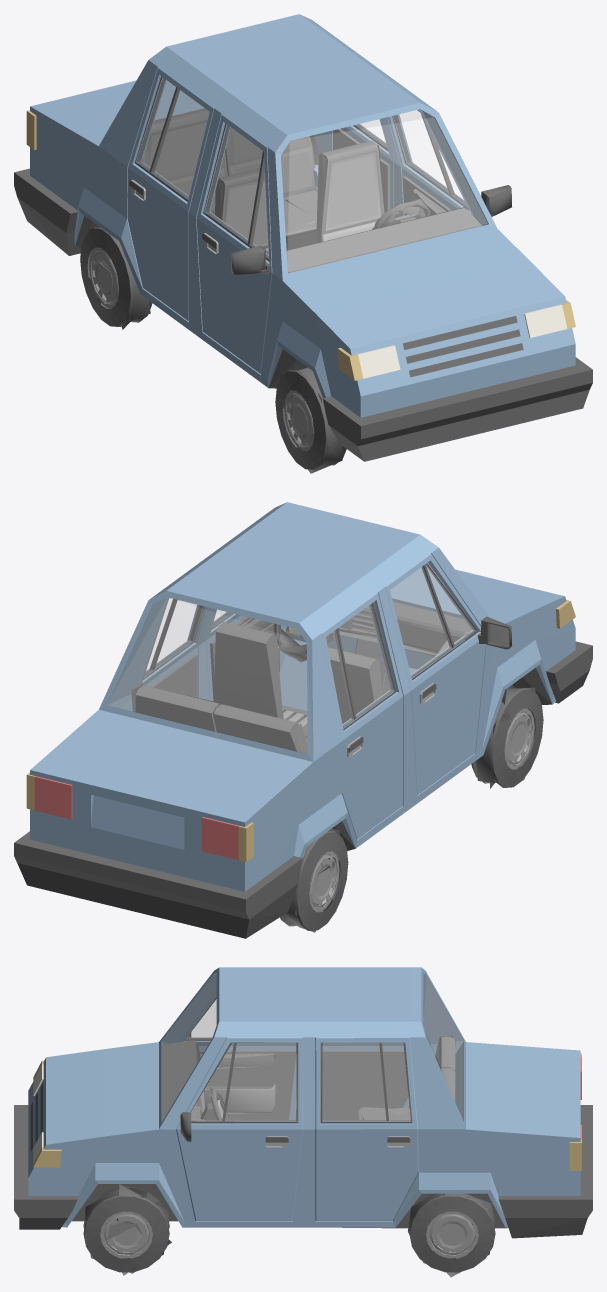
The model's file is sedan.glb.
3 views of the same model, one above another, from view 1: azimuth 30°, elevation 25°; view 2: azimuth 150°, elevation 25°; view 3: azimuth 270°, elevation 25° (orthographic). The views are drawn at different scales.
Visible parts, largest first — view 1: romp, ver, wiel_vr, wiel_ar; view 2: romp, ver, wiel_vr, wiel_ar; view 3: romp, ver, wiel_al, wiel_vl.
Boxes of the visible parts, <box> form: romp: <box>14,14,592,469</box>; ver: <box>80,79,575,464</box>; wiel_vr: <box>275,367,345,473</box>; wiel_ar: <box>80,227,150,326</box>; romp: <box>14,502,592,938</box>; ver: <box>108,565,543,923</box>; wiel_vr: <box>473,687,543,787</box>; wiel_ar: <box>282,828,348,932</box>; romp: <box>14,967,592,1258</box>; ver: <box>84,976,490,1277</box>; wiel_al: <box>408,1193,494,1273</box>; wiel_vl: <box>84,1184,169,1273</box>.
Bounding box in the file's own units: 2.02 × 1.99 × 4.35.
